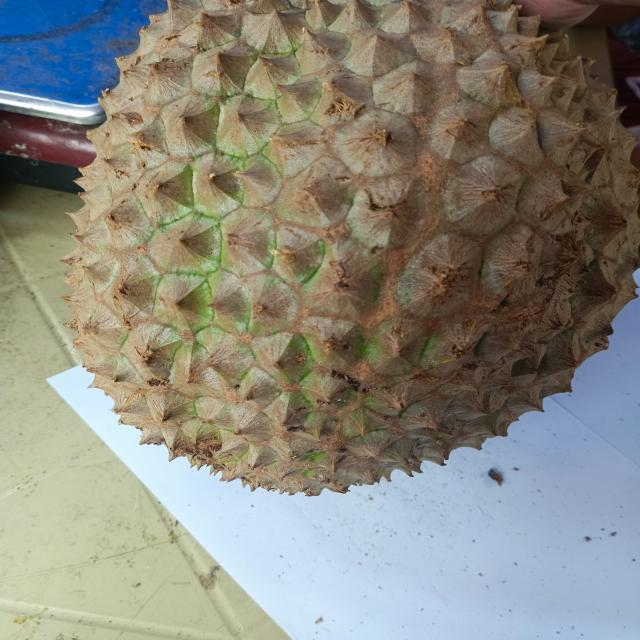mature: (60, 0, 637, 496)
